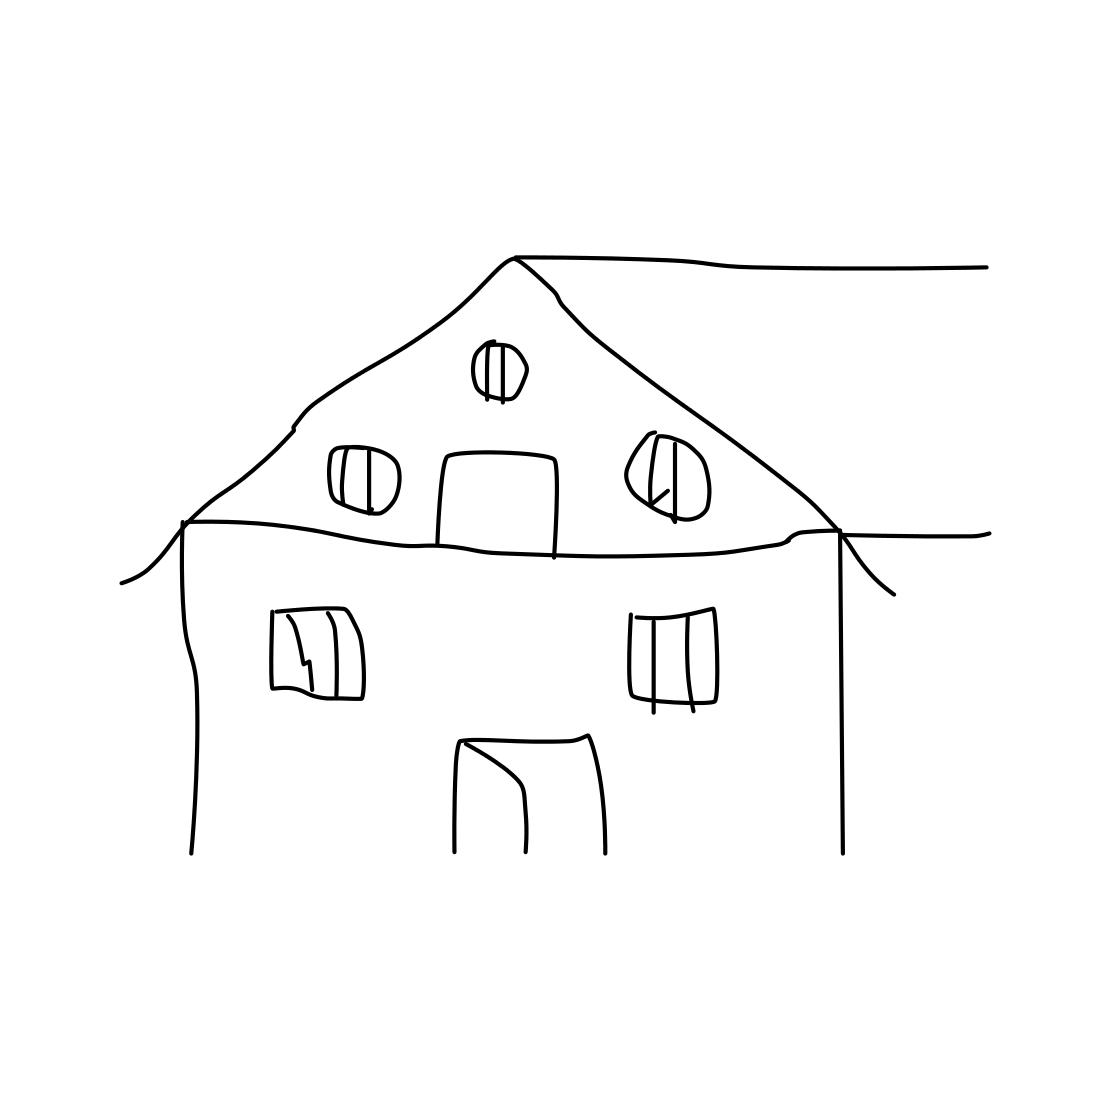House: (96, 239, 1058, 896)
